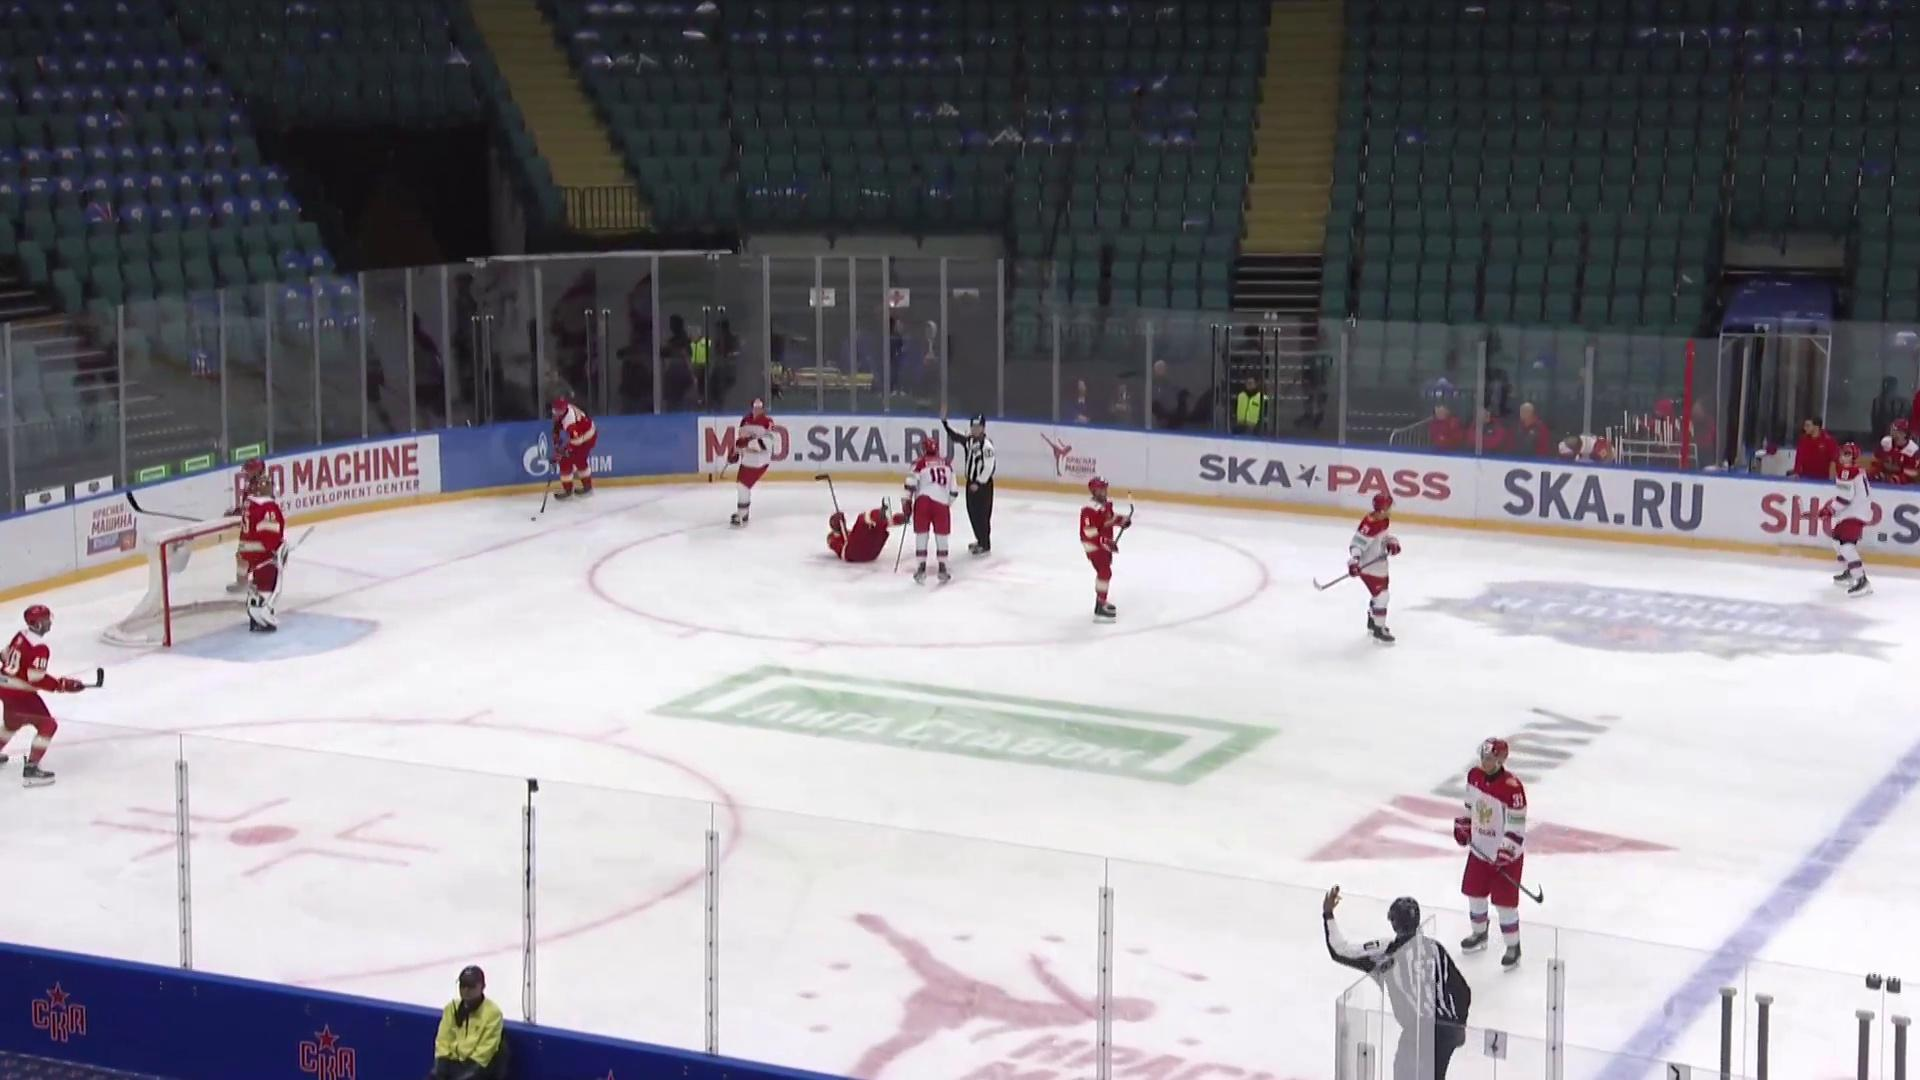ball: (529, 514, 537, 524)
